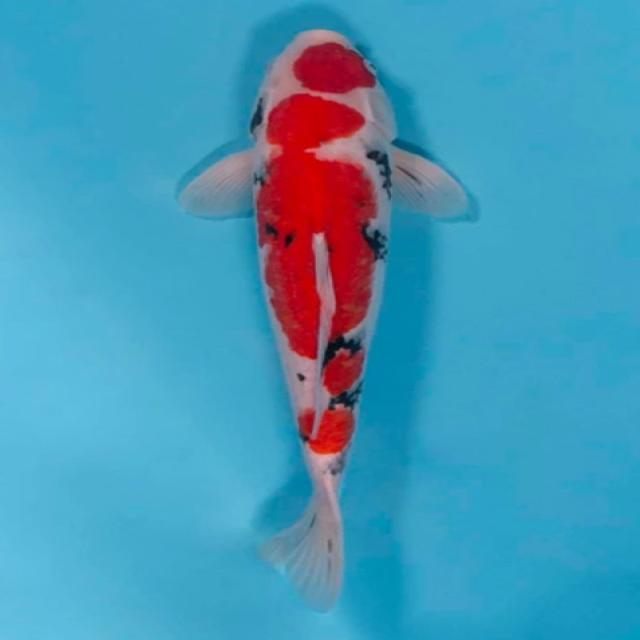Sanke: (173, 28, 471, 613)
